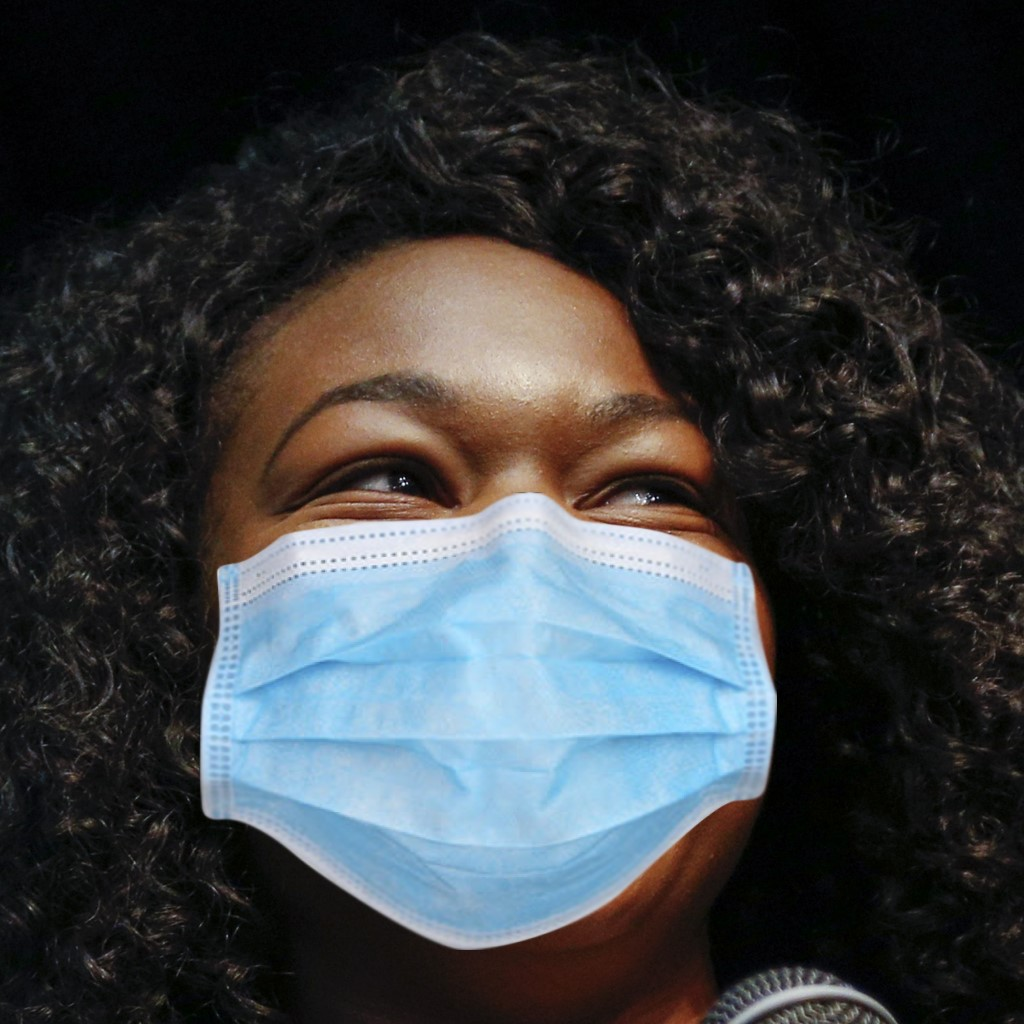con_mascara: (187, 246, 775, 931)
